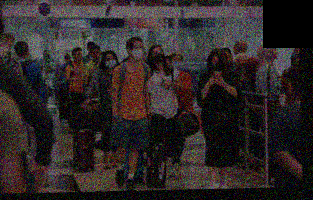with_mask: (130, 42, 145, 60), (151, 48, 164, 64), (210, 58, 224, 72), (104, 55, 117, 69), (171, 56, 183, 70), (42, 50, 49, 59)
without_mask: (91, 48, 101, 59), (74, 50, 83, 61), (273, 44, 279, 60), (164, 57, 172, 67), (139, 50, 145, 61)
